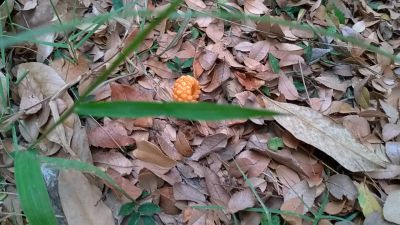eggs: (170, 72, 204, 110)
